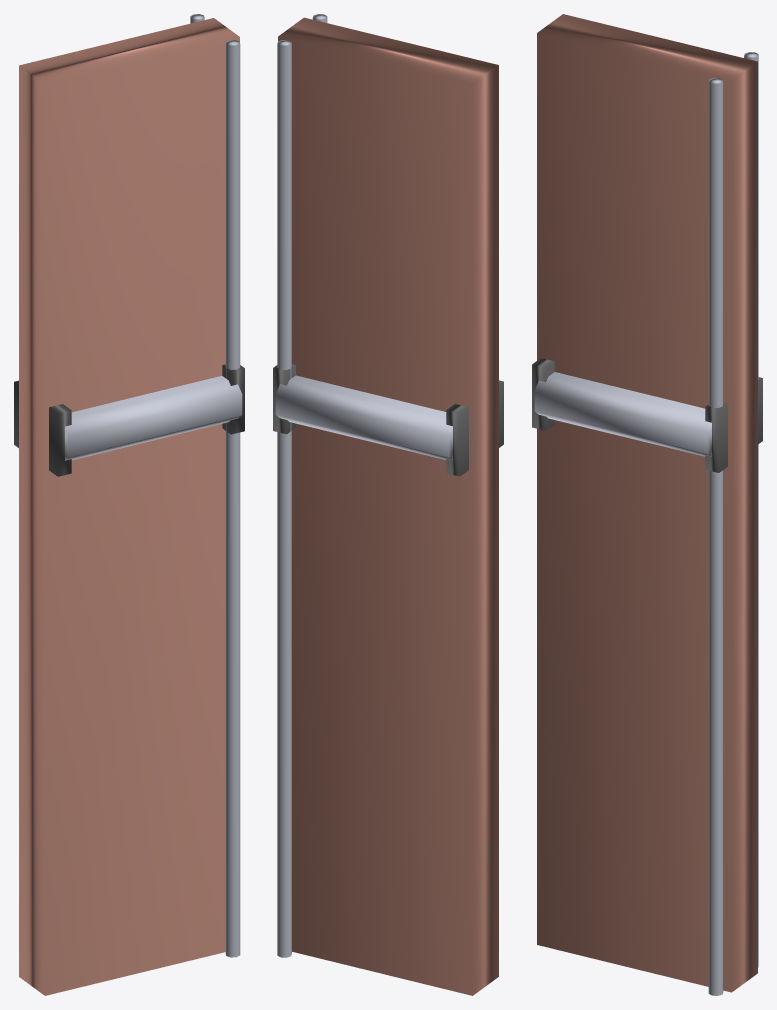
The model's file is Door_Exit.glb.
3 views of the same model, side by side, from view 1: azimuth 30°, elevation 25°; view 2: azimuth 150°, elevation 25°; view 3: azimuth 330°, elevation 25° (orthographic).
Visible parts, largest first — view 1: pCylinder26; view 2: pCylinder26; view 3: pCylinder26.
Boxes of the visible parts, <box> form: pCylinder26: <box>14,14,244,995</box>; pCylinder26: <box>273,14,503,995</box>; pCylinder26: <box>532,14,762,995</box>.
Bounding box in the file's own units: 0.5481 × 2.45 × 0.2557.
